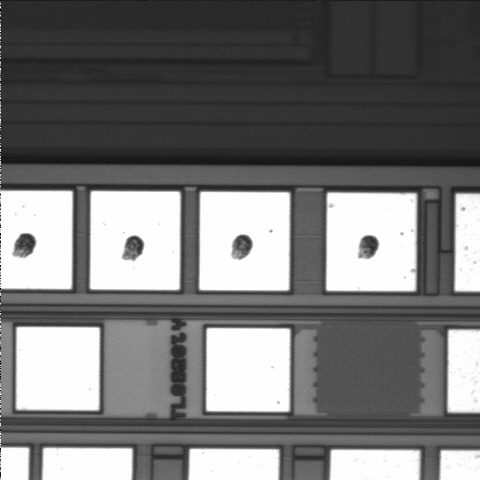pad: (90, 191, 180, 290), (200, 192, 290, 290), (326, 193, 416, 291), (16, 327, 100, 410), (207, 328, 290, 412)
